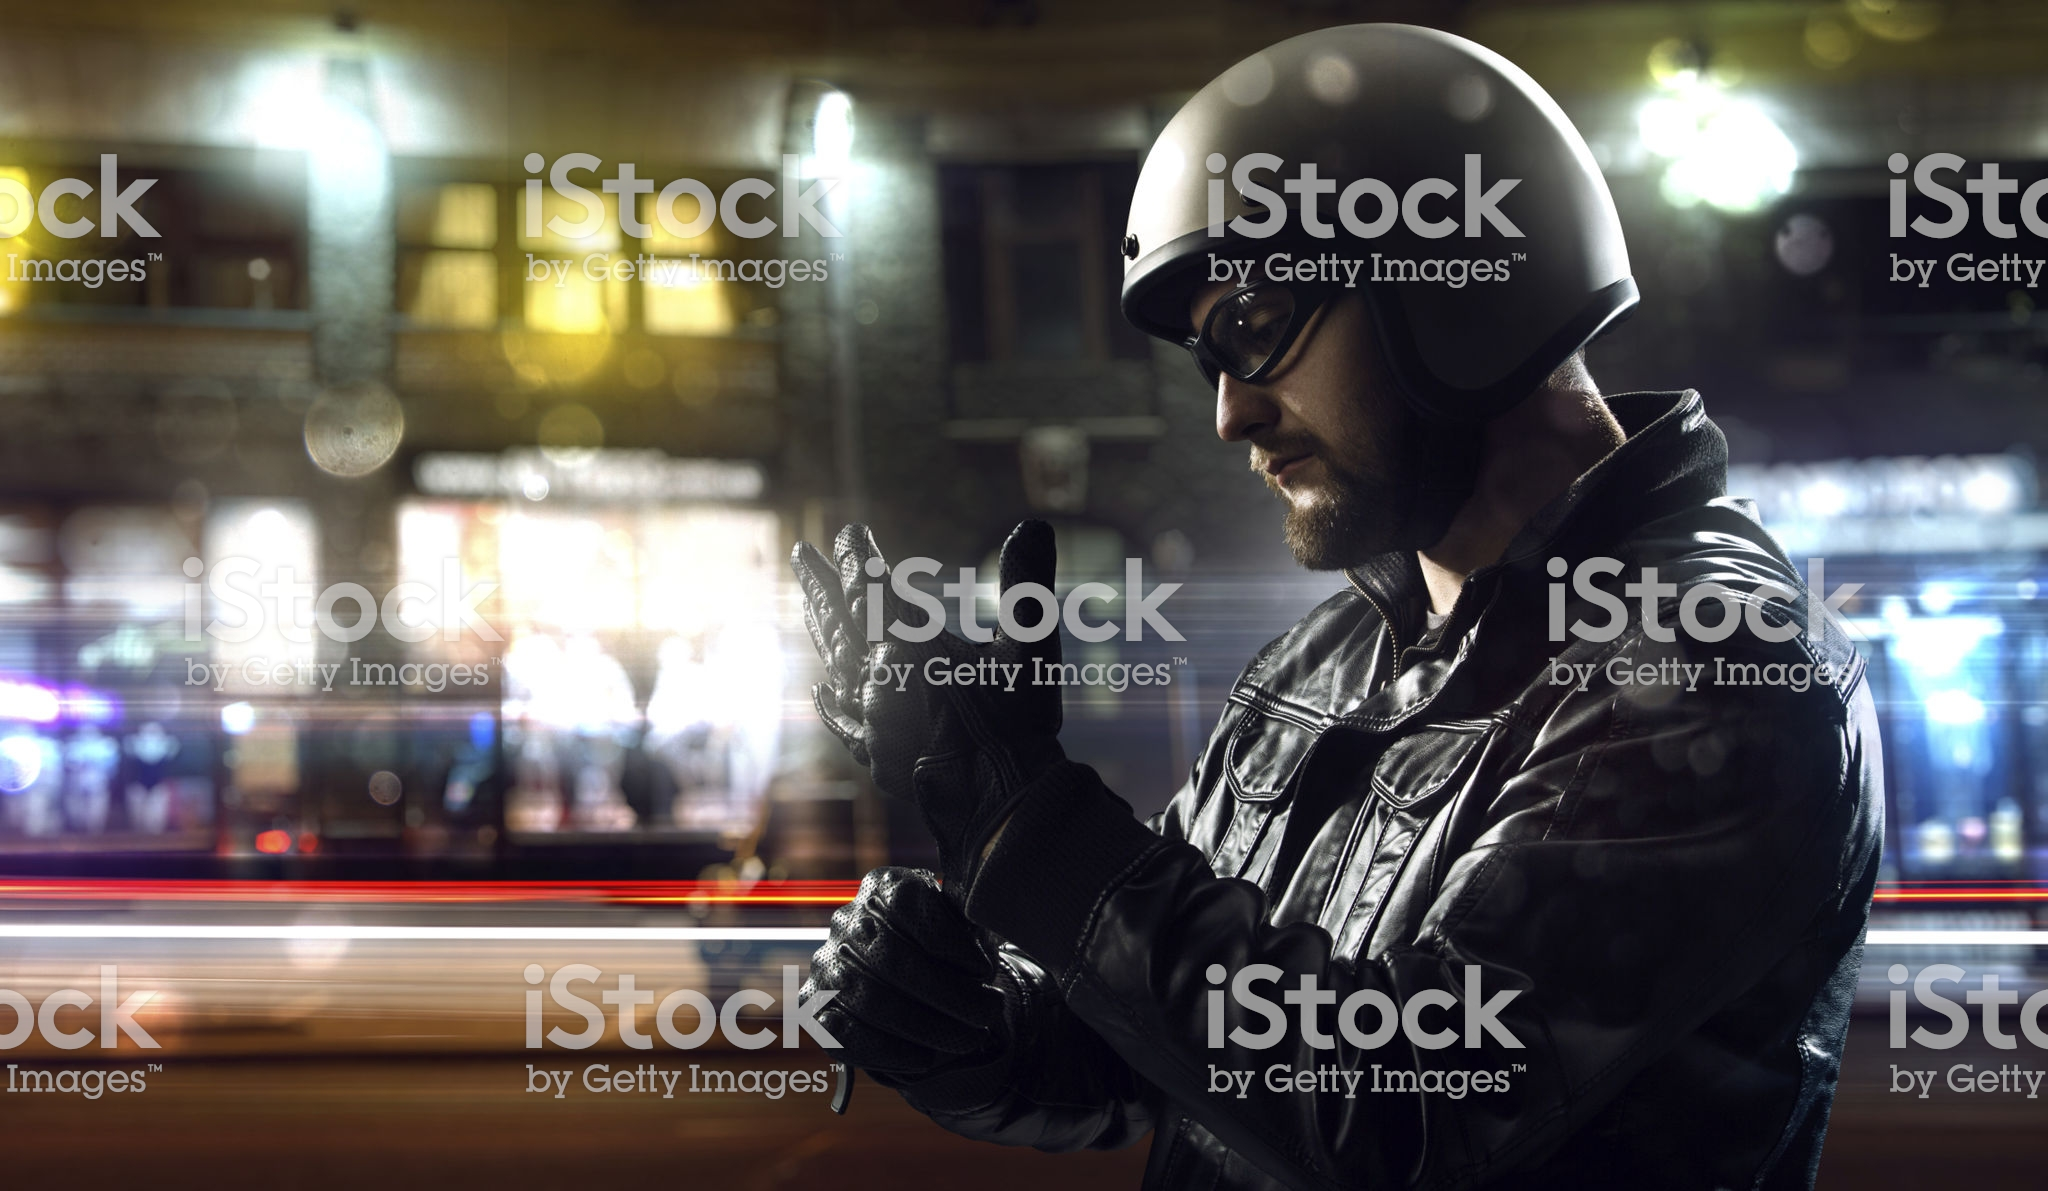helmet: (1101, 47, 1634, 352)
